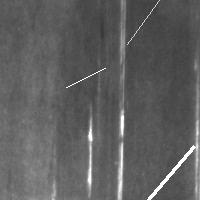scratches: (129, 141, 199, 200), (122, 0, 185, 49), (61, 63, 110, 92), (114, 106, 127, 199), (83, 108, 96, 198)
